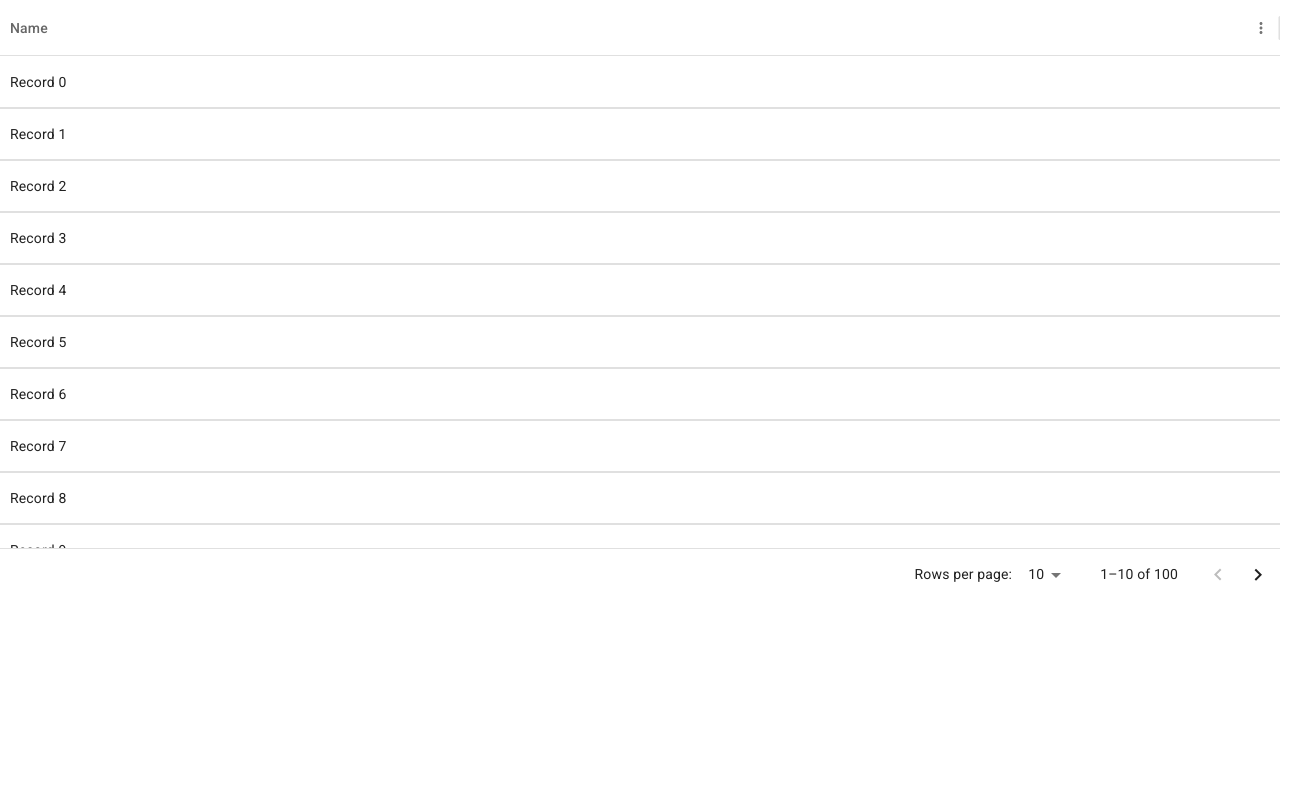
DynamicDataGrid Pagination › provides correct page size options
Click the rows per page select
Step 1. Press the mouse on the dropdown named "Rows per page" → {"x": 1036, "y": 574}, box [1028,566,1044,582]
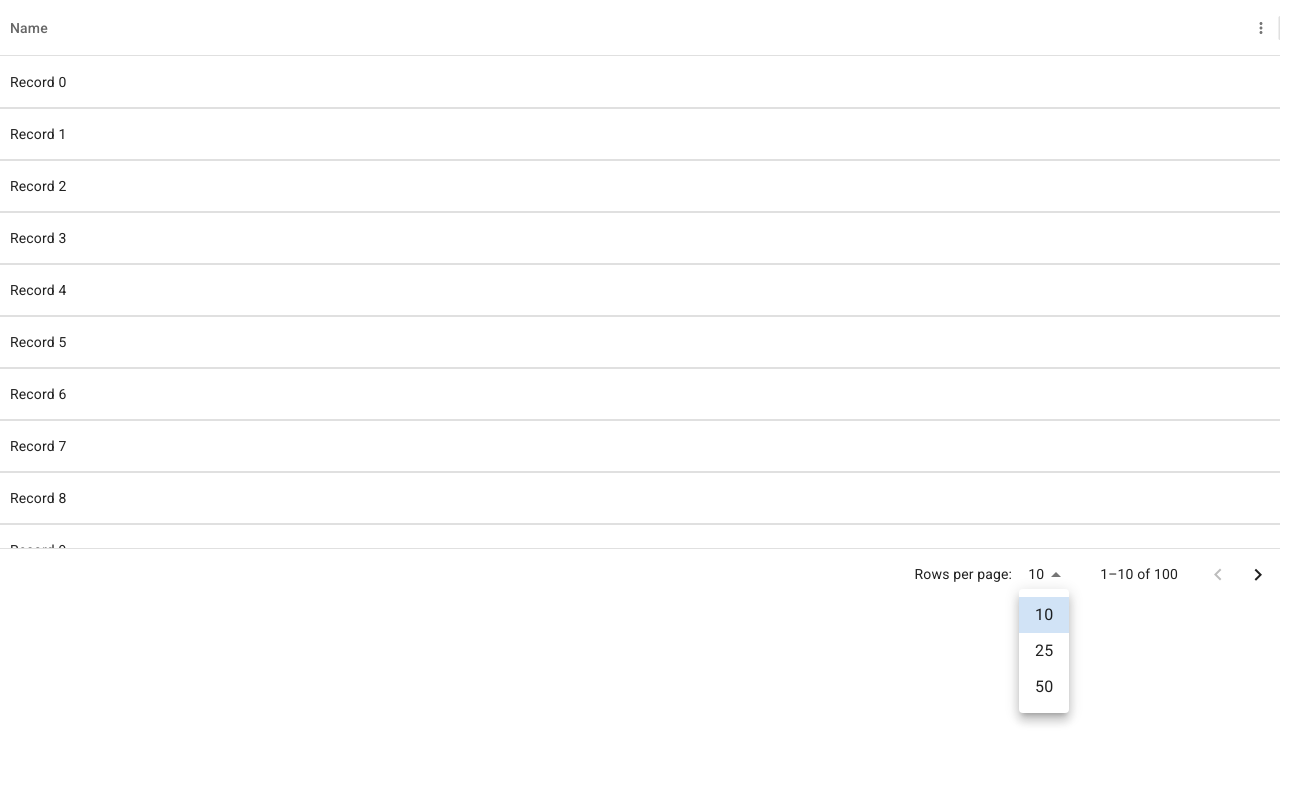
Now the option "10" is shown, box [1019,597,1069,633]
Now the option "25" is shown, box [1035,641,1053,660]
Now the option "50" is shown, box [1035,677,1053,696]
